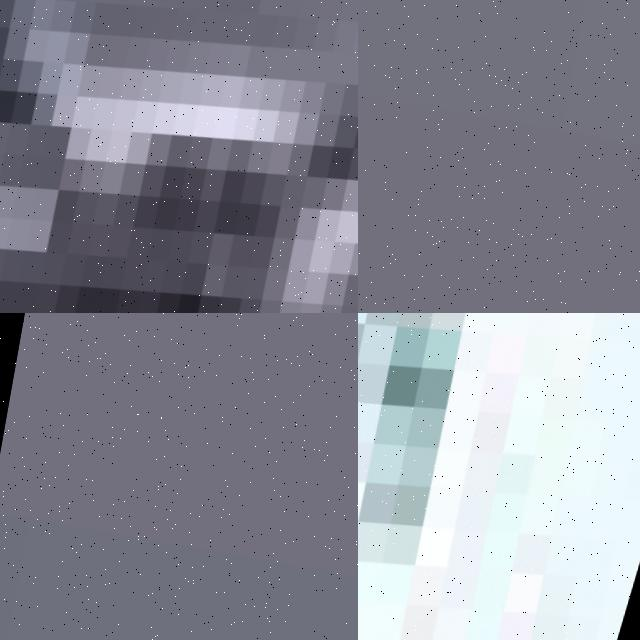0: (0, 0, 358, 313)
drone: (358, 313, 640, 640)
